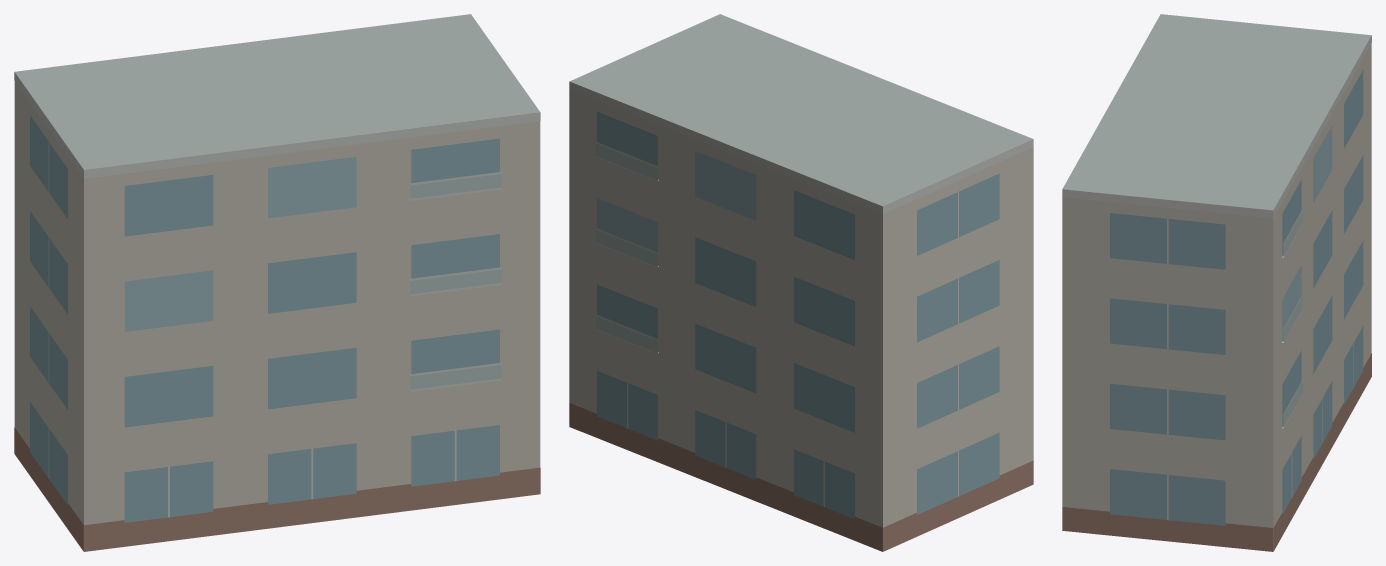
Rendered from survey-upis-32945121.glb.
3 renders of one model, left to right at view 1: azimuth 30°, elevation 25°; view 2: azimuth 150°, elevation 25°; view 3: azimuth 270°, elevation 25°, orthographic. The views are drawn at different scales.
Parts seen in each view (by area): view 1: survey-upis-32945121.tmp; view 2: survey-upis-32945121.tmp; view 3: survey-upis-32945121.tmp.
Boxes of the visible parts, bbox=[...] form: survey-upis-32945121.tmp: bbox=[14, 14, 540, 551]; survey-upis-32945121.tmp: bbox=[569, 14, 1033, 551]; survey-upis-32945121.tmp: bbox=[1062, 14, 1371, 551].
Bounding box in the file's own units: 13.08 × 10.6 × 8.72.
